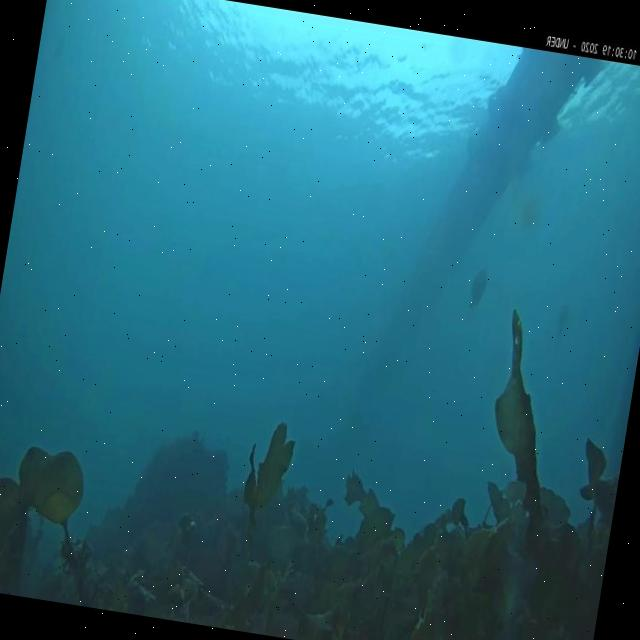fish: (468, 263, 491, 314), (553, 300, 572, 338)
